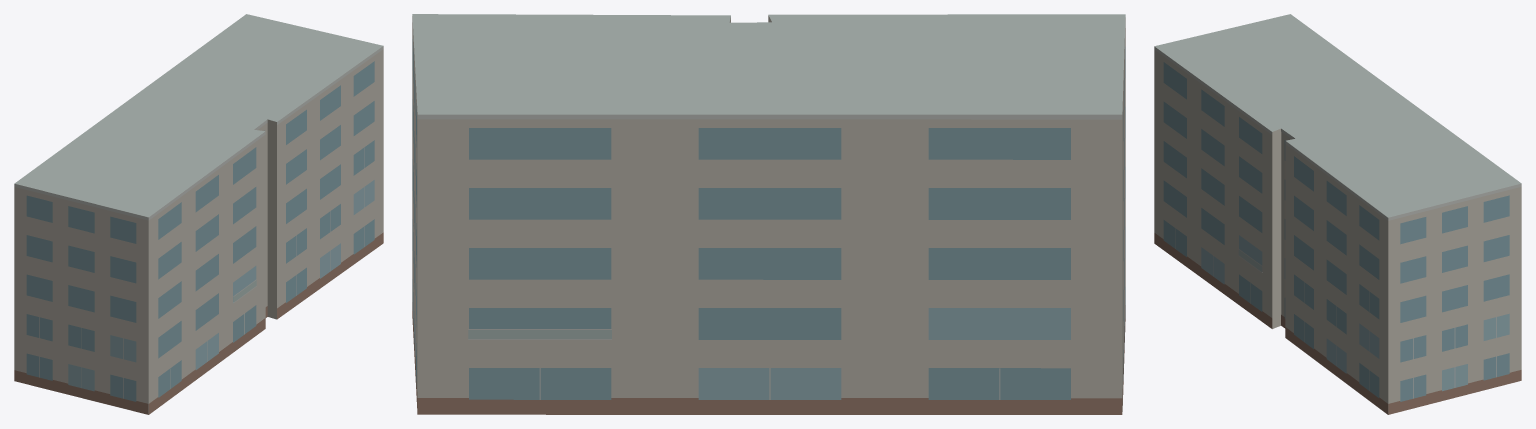
File: survey-upis-33026281.glb
The picture shows the model from 3 angles, left to right: view 1: azimuth 30°, elevation 25°; view 2: azimuth 150°, elevation 25°; view 3: azimuth 270°, elevation 25°; orthographic projection. The views are drawn at different scales.
Parts seen in each view (by area): view 1: survey-upis-33026281.tmp; view 2: survey-upis-33026281.tmp; view 3: survey-upis-33026281.tmp.
Part boxes in pixels (left/top/right/bottom): survey-upis-33026281.tmp: left=14, top=14, right=383, bottom=414; survey-upis-33026281.tmp: left=412, top=14, right=1125, bottom=414; survey-upis-33026281.tmp: left=1154, top=14, right=1521, bottom=414.
Size of the model in its own units: 33.81 by 15.25 by 25.77.
